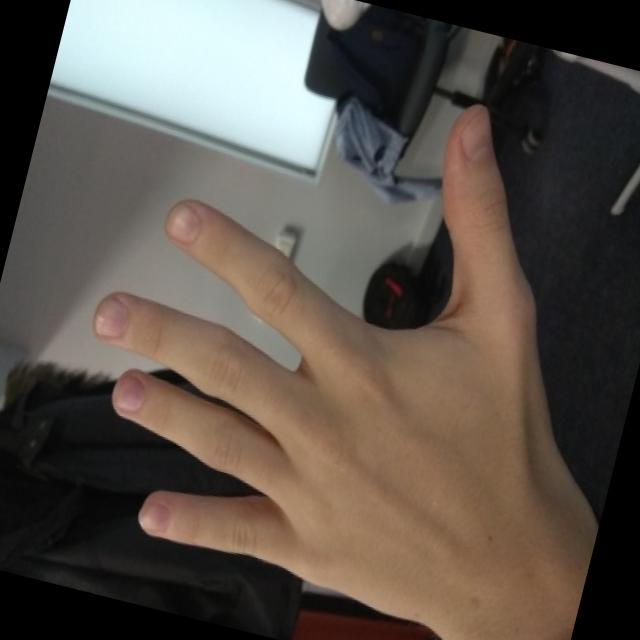Nail: (458, 106, 491, 162), (96, 297, 128, 337), (169, 203, 199, 243), (116, 375, 144, 411), (144, 501, 169, 532)
